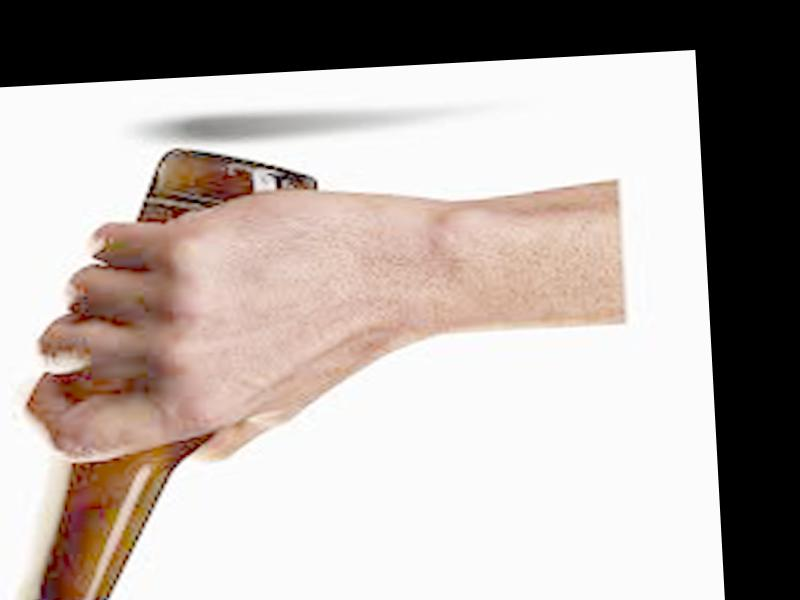Beer: (1, 134, 341, 600)
